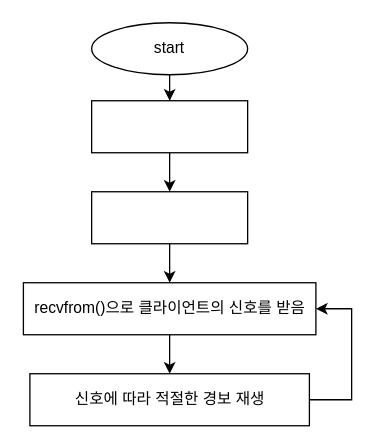
Image size: 385x448. Some labels were removed from this diagram. Each missing label, with the centre of its shape:
"server 소켓 생성" goes at point 169,126.
"클라이언트 accept" goes at point 169,217.
